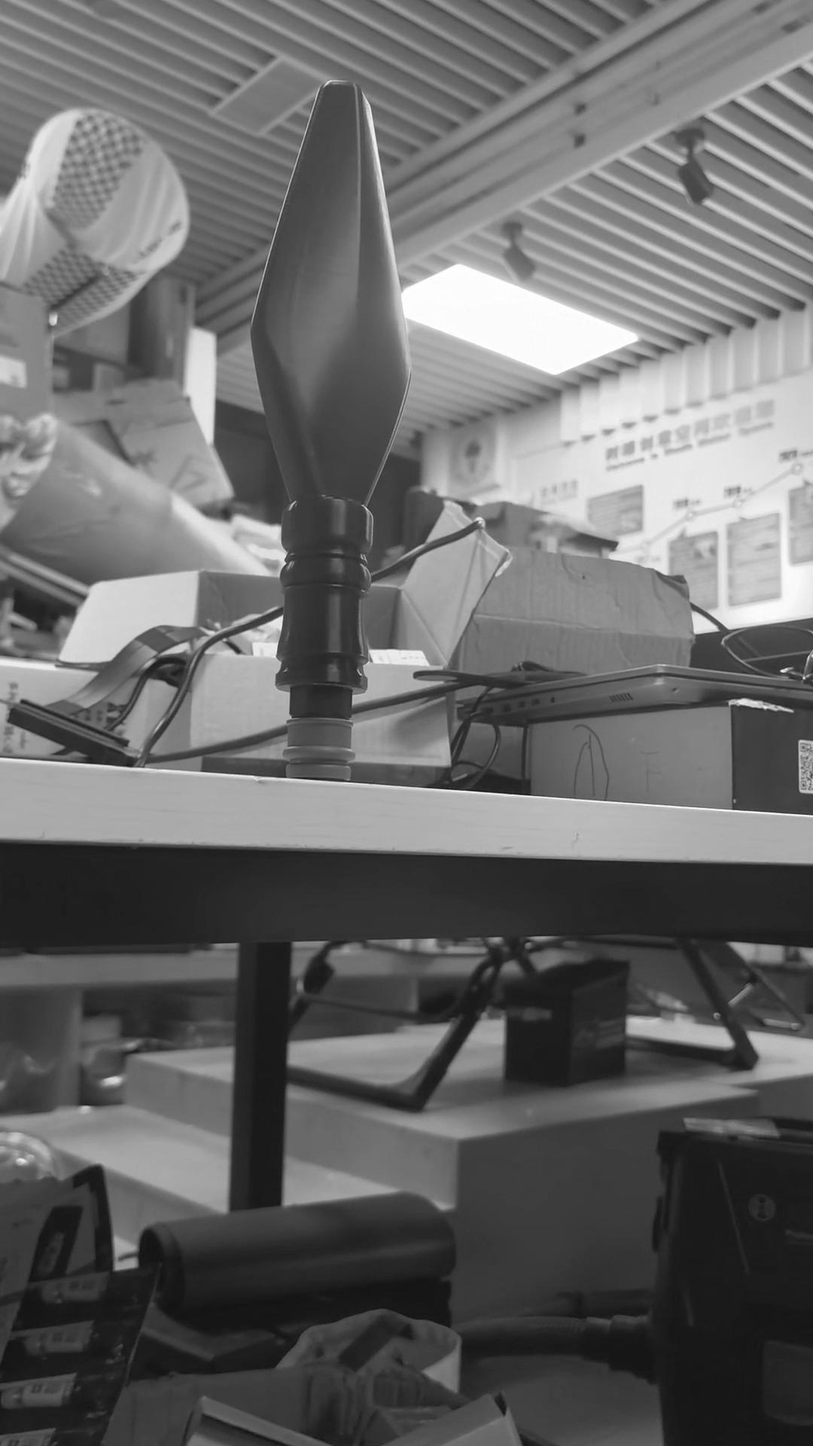base: (276, 701, 360, 794)
